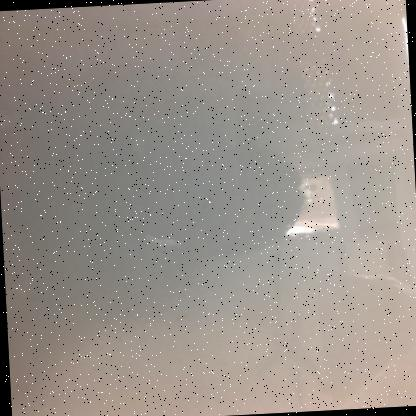Nocrack: (2, 6, 415, 415)
